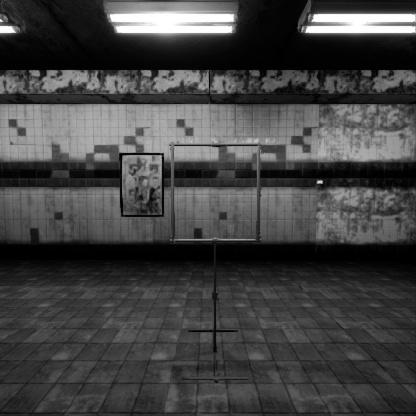gate: (171, 172, 269, 273)
